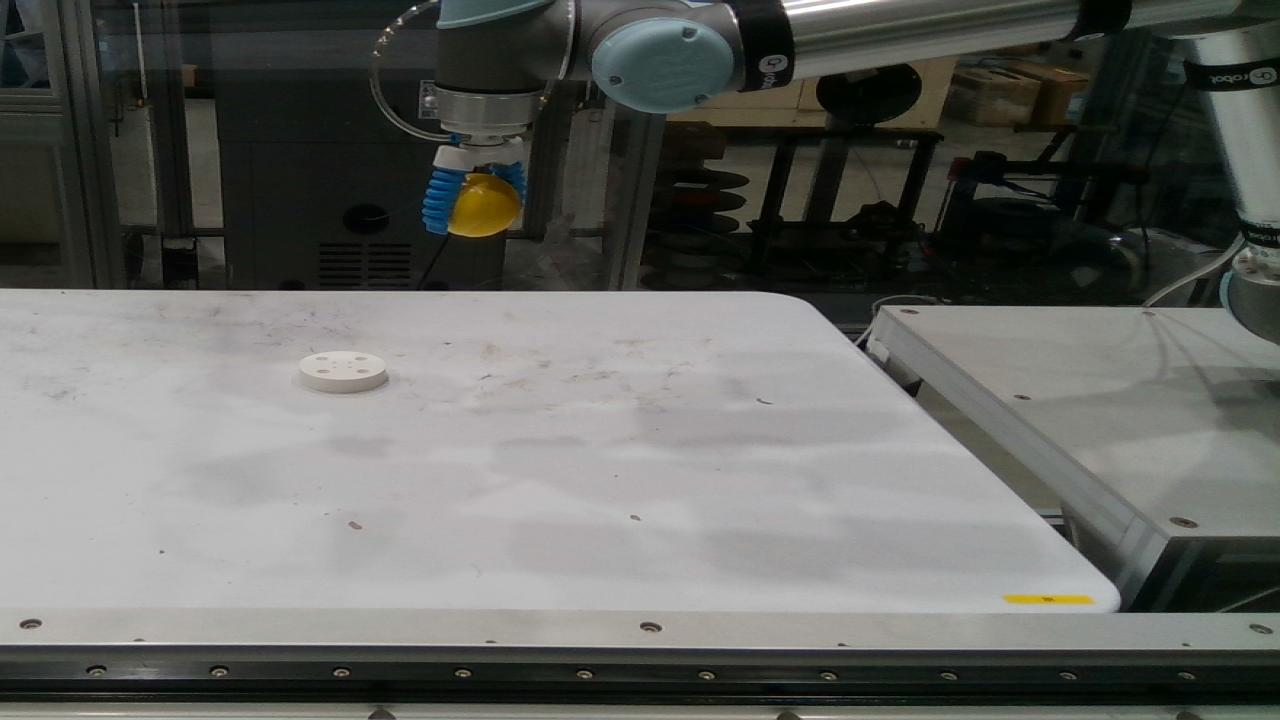UR5: (426, 1, 1274, 294)
gripper_left: (490, 163, 522, 203)
gripper_right: (424, 170, 462, 232)
target: (448, 172, 519, 237), (298, 353, 384, 394)
